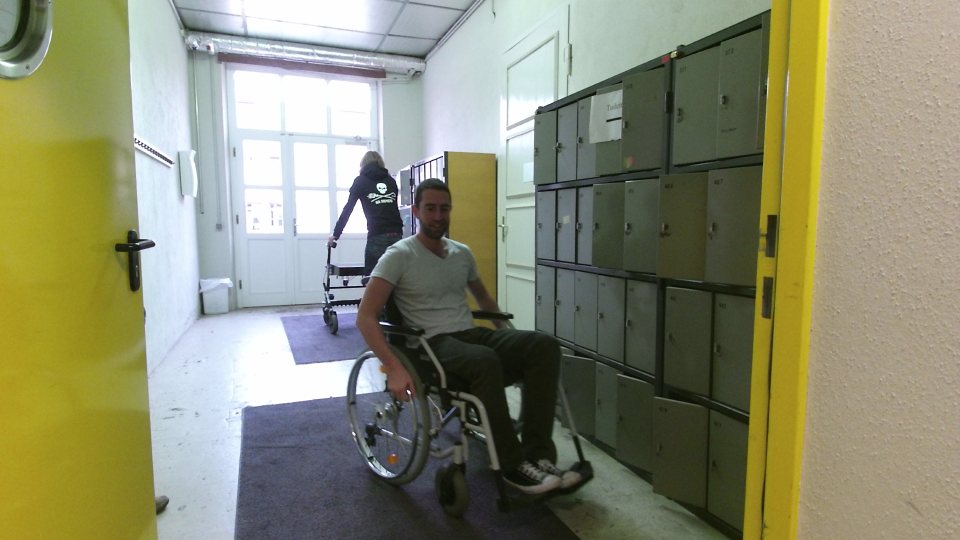wheelchair: (338, 176, 591, 516)
